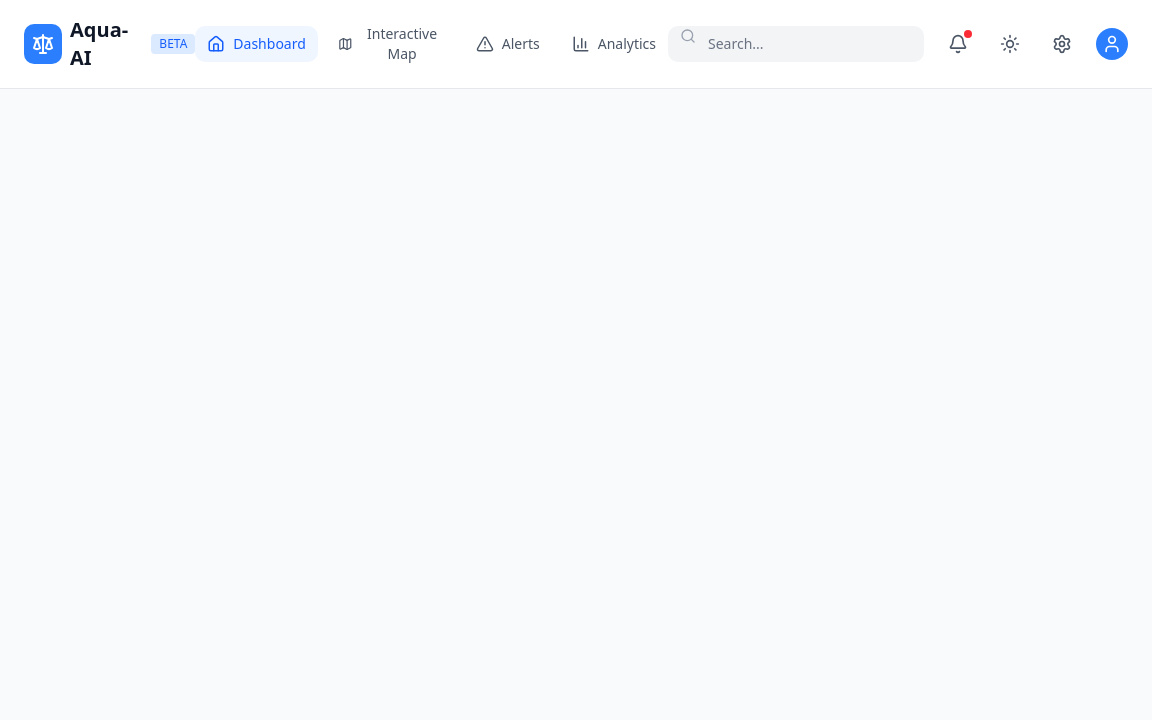
Header Component › renders accessible disabled buttons in profile menu
This screenshot has width=1152, height=720.
Open profile menu
Click the button named "Profile menu".
click(1112, 44)  # box [1096, 28, 1128, 60]
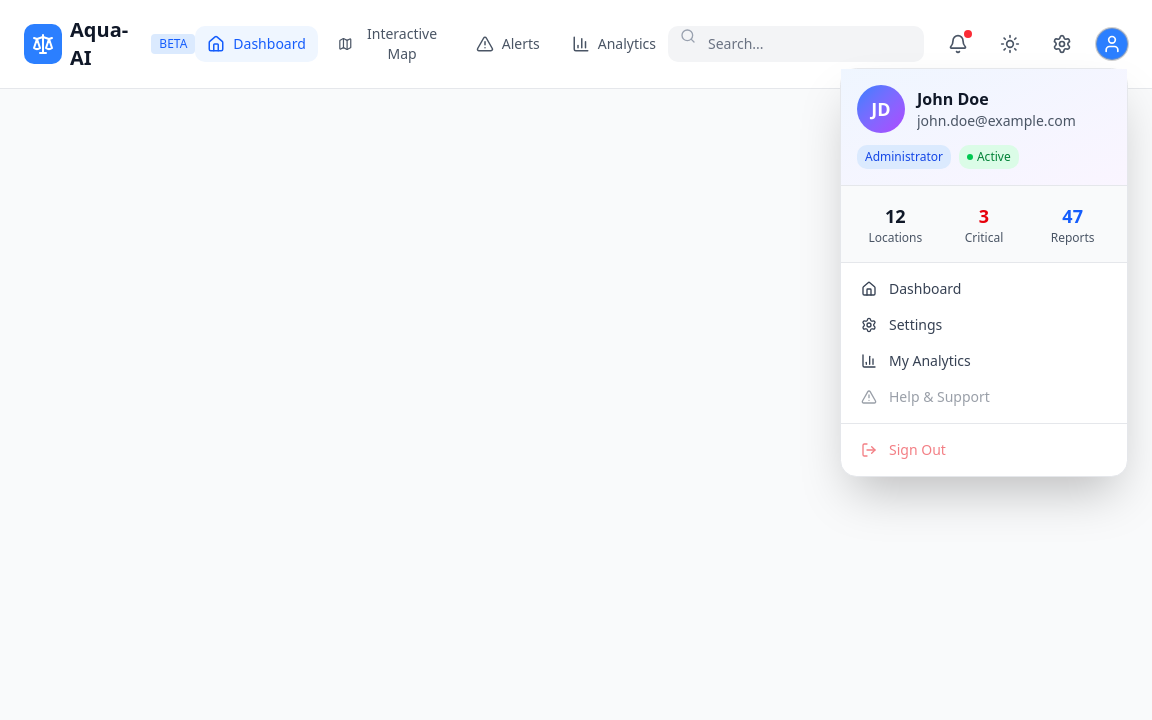
Now the button "Help & Support" is disabled, box [849, 379, 1119, 415]
Now the button "Sign Out" is disabled, box [849, 432, 1119, 468]
